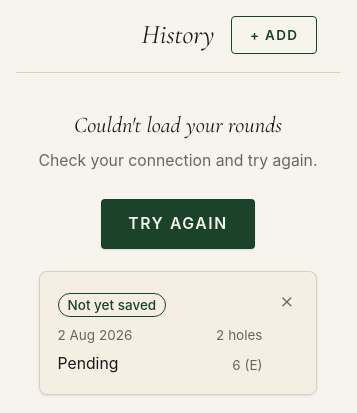
it: History - reacting to a background sync › "Try again" reloads the saved list and picks pending rounds up again
expect the number of buttons named "Open round" is 1: met, box [40, 272, 316, 394]
Click the button "Try again": (178, 224) [101, 199, 255, 249]
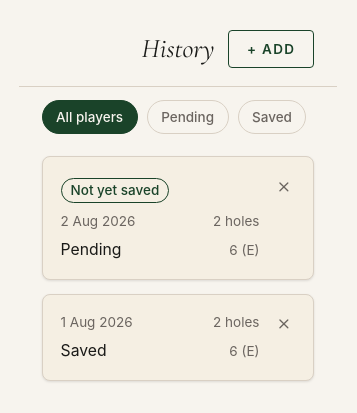
expect the message "Couldn't load your rounds Check your connection and try again. Try again" is gone: met
expect the number of buttons named "Open round" is 2: met, box [42, 157, 313, 279]; [42, 295, 313, 380]
